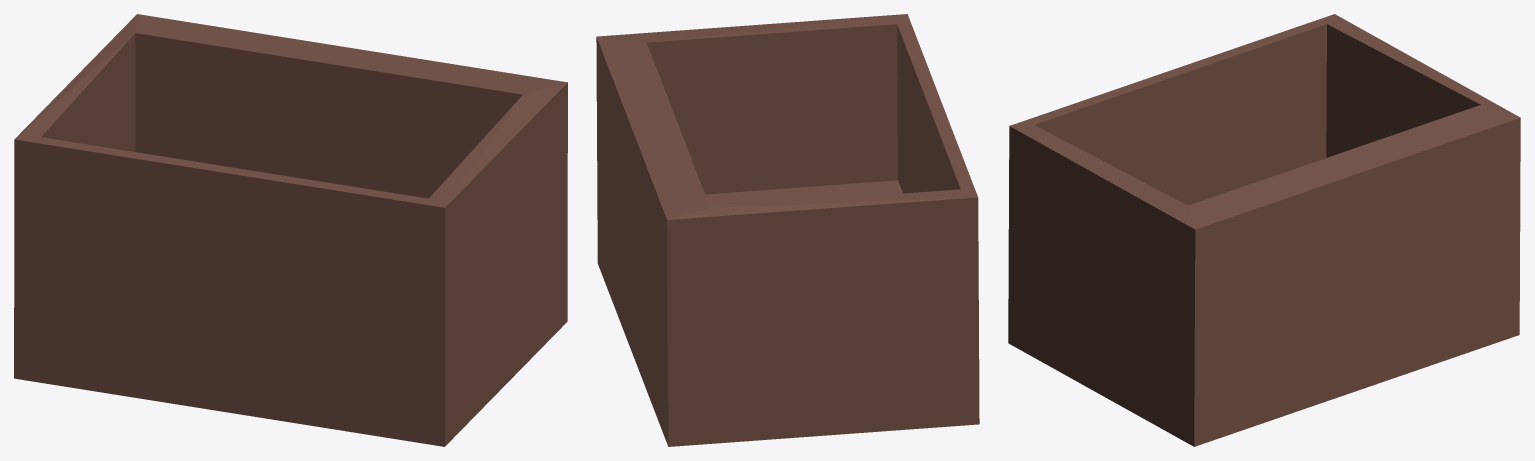
The picture shows the model from 3 angles, left to right: view 1: azimuth 30°, elevation 25°; view 2: azimuth 150°, elevation 25°; view 3: azimuth 270°, elevation 25°; orthographic projection. The views are drawn at different scales.
Size of the model in its own units: 0.3355 by 0.163 by 0.3414.
